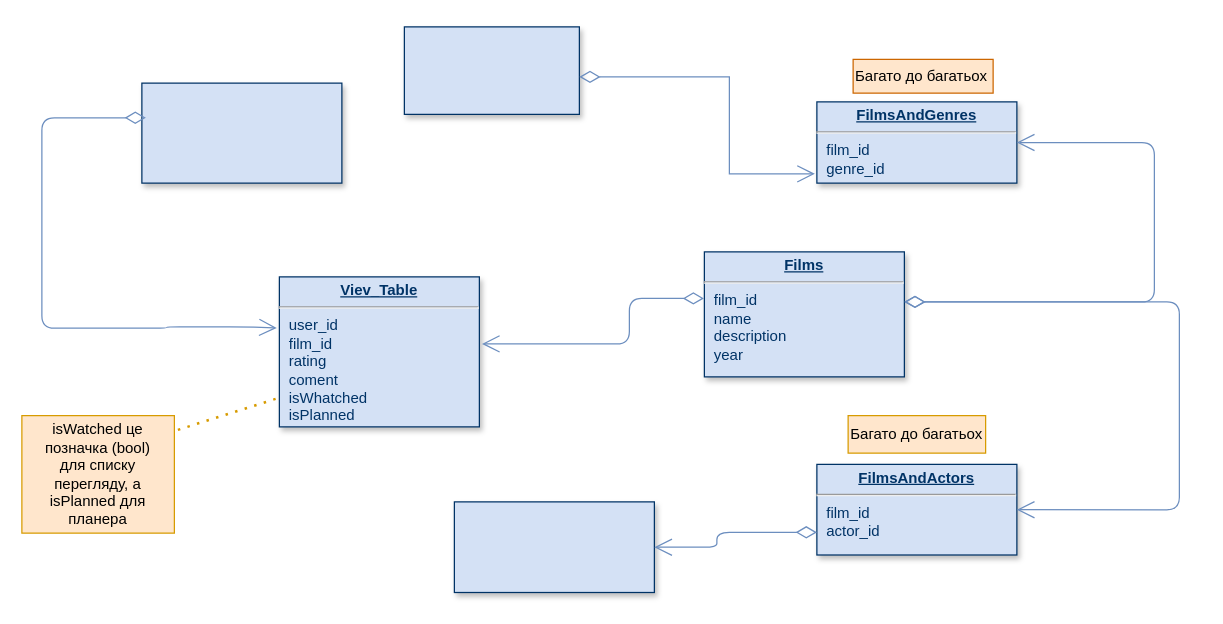
Image size: 1223x624. Some labels were removed from this diagram. Each missing label, with the centre of its shape:
"Actors actor_id name_" belongs at point 555,548.
"Genres genre_id genre_name" belongs at point 492,72.
"User user_id name_ password_" belongs at point 242,134.
